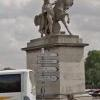Statue: (22, 2, 87, 49)
